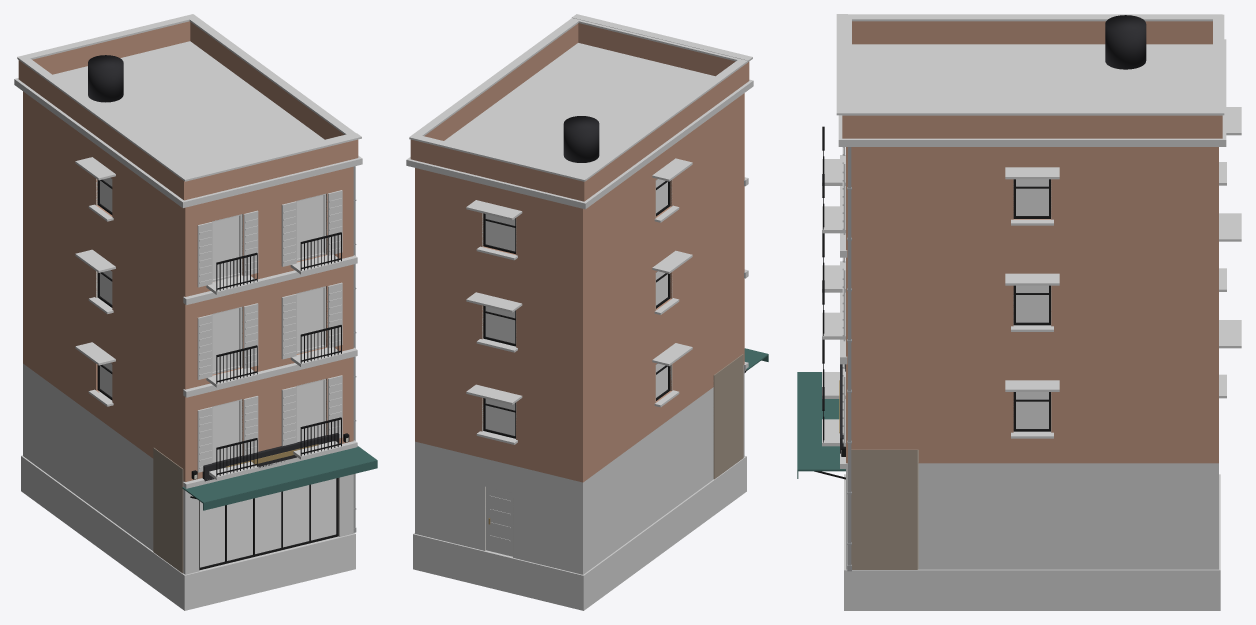
File: shop_house_6x10_4.glb
3 renders of one model, left to right at view 1: azimuth 30°, elevation 25°; view 2: azimuth 150°, elevation 25°; view 3: azimuth 270°, elevation 25°, orthographic. The views are drawn at different scales.
Visible parts, largest first — view 1: shop_house_6x10_4; view 2: shop_house_6x10_4; view 3: shop_house_6x10_4.
Boxes of the visible parts, x1=… form: shop_house_6x10_4: x1=14, y1=14, x2=377, y2=610; shop_house_6x10_4: x1=406, y1=14, x2=768, y2=610; shop_house_6x10_4: x1=797, y1=14, x2=1241, y2=610.
Size of the model in its own units: 7.22 by 15.25 by 11.91.
